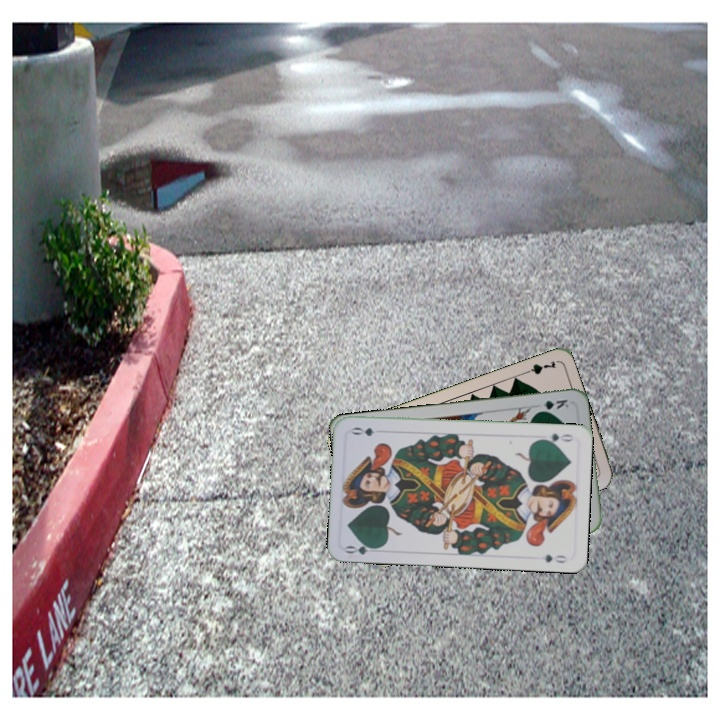G7: (518, 357, 559, 377)
GK: (532, 395, 572, 415)
GO: (342, 539, 383, 557), (536, 429, 576, 446)
